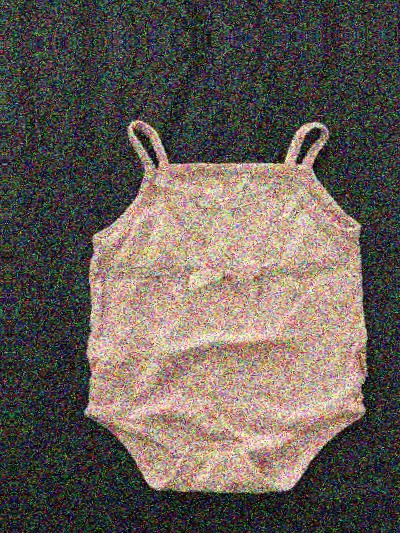Body: (44, 93, 400, 515)
